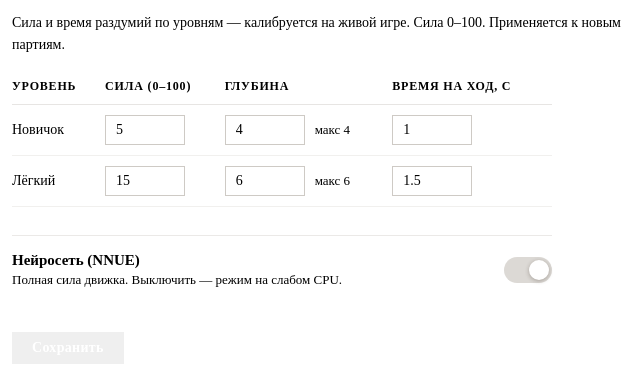
при падении потолка глубина встаёт на верхнюю границу
Expected: the number field named "Лёгкий глубина" holds "6", [225,166,305,196]
Replace the text in the number field named "Лёгкий сила" with "7" at x=145, y=181, box [105,166,185,196]
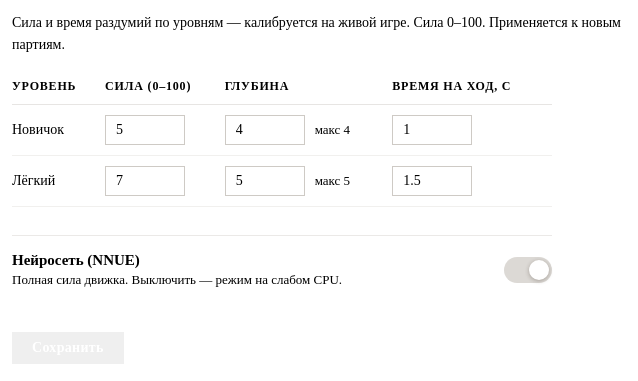
Result: the number field named "Лёгкий глубина" holds "5" at [225,166,305,196]
